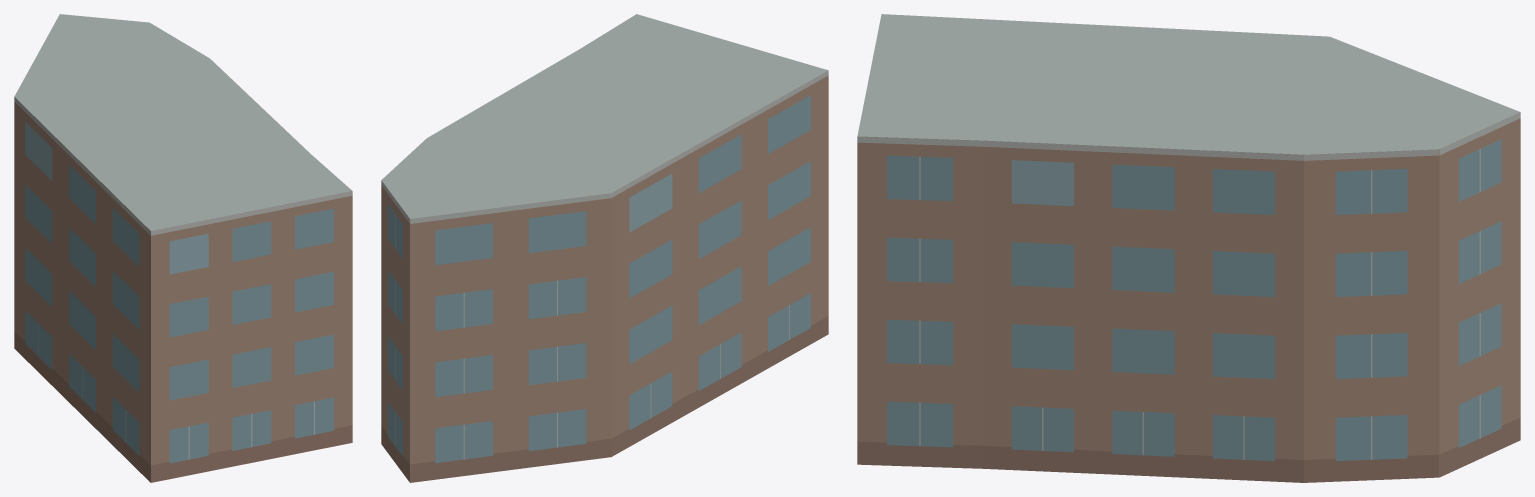
File: survey-upis-32588226.glb
The picture shows the model from 3 angles, left to right: view 1: azimuth 30°, elevation 25°; view 2: azimuth 150°, elevation 25°; view 3: azimuth 270°, elevation 25°; orthographic projection. The views are drawn at different scales.
Visible parts, largest first — view 1: survey-upis-32588226.tmp; view 2: survey-upis-32588226.tmp; view 3: survey-upis-32588226.tmp.
Boxes of the visible parts, left/top/right/bottom form: survey-upis-32588226.tmp: left=14, top=14, right=352, bottom=482; survey-upis-32588226.tmp: left=381, top=14, right=828, bottom=482; survey-upis-32588226.tmp: left=857, top=14, right=1520, bottom=482.
Size of the model in its own units: 11.99 by 13.02 by 23.86.
